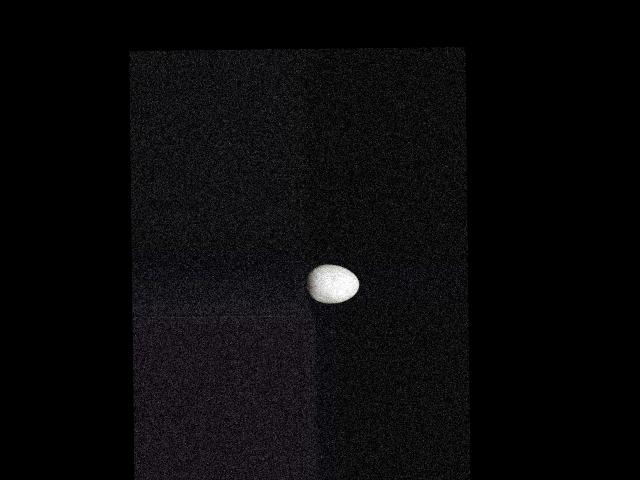egg: (305, 265, 359, 303)
